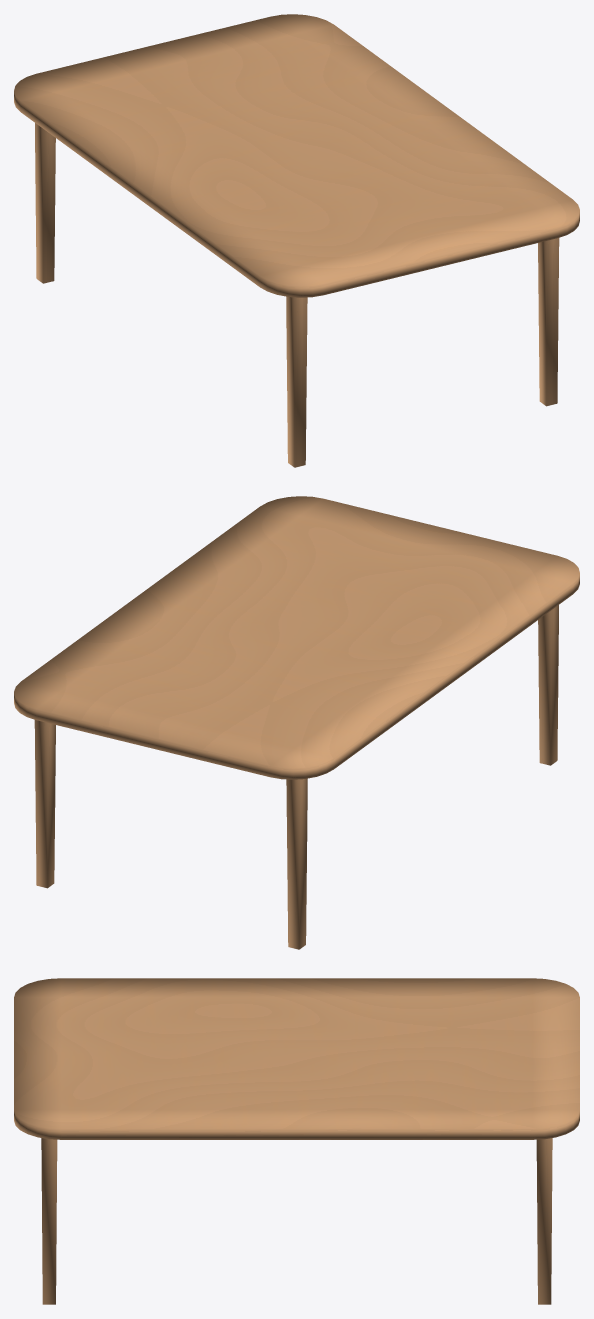
The model's file is table.glb.
The picture shows the model from 3 angles, top to bottom: view 1: azimuth 30°, elevation 25°; view 2: azimuth 150°, elevation 25°; view 3: azimuth 270°, elevation 25°; orthographic projection.
Parts seen in each view (by area): view 1: Table_20.001; view 2: Table_20.001; view 3: Table_20.001.
Boxes of the visible parts, box(x1,y1,x2,y2) form: Table_20.001: box(14, 14, 579, 467); Table_20.001: box(14, 496, 579, 949); Table_20.001: box(14, 978, 579, 1304).
Bounding box in the file's own units: 1.46 × 0.8515 × 2.32.
Materials: 1 (1 with a texture image).
